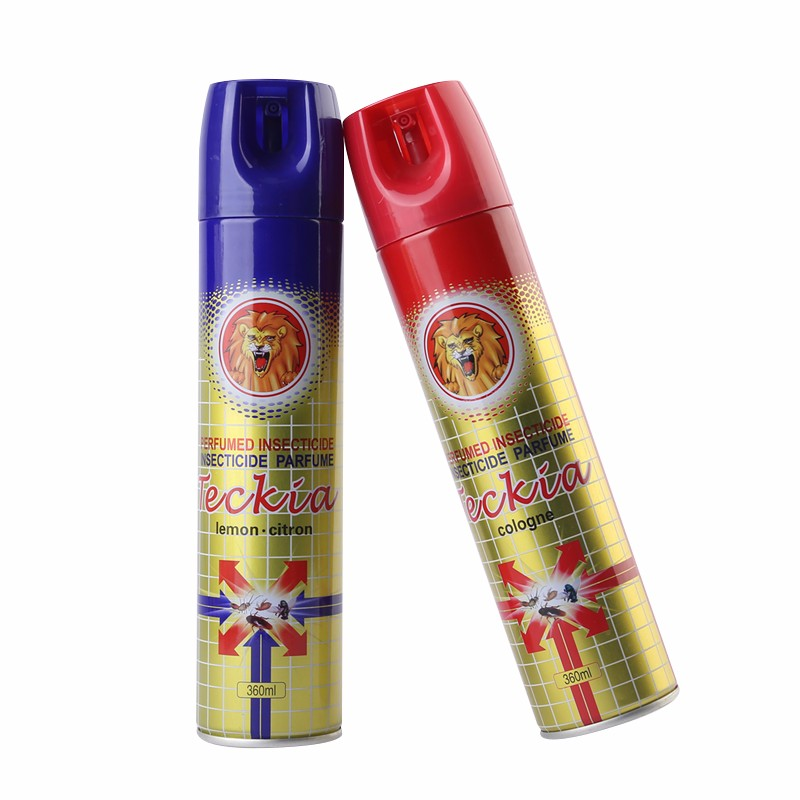Insecticide: (341, 73, 682, 751), (191, 63, 351, 751)
